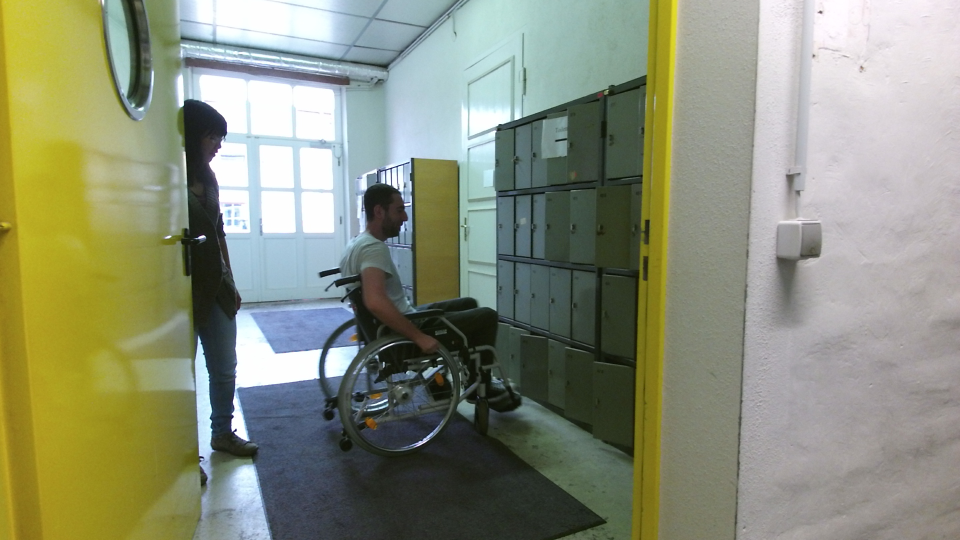wheelchair: (304, 178, 519, 458)
